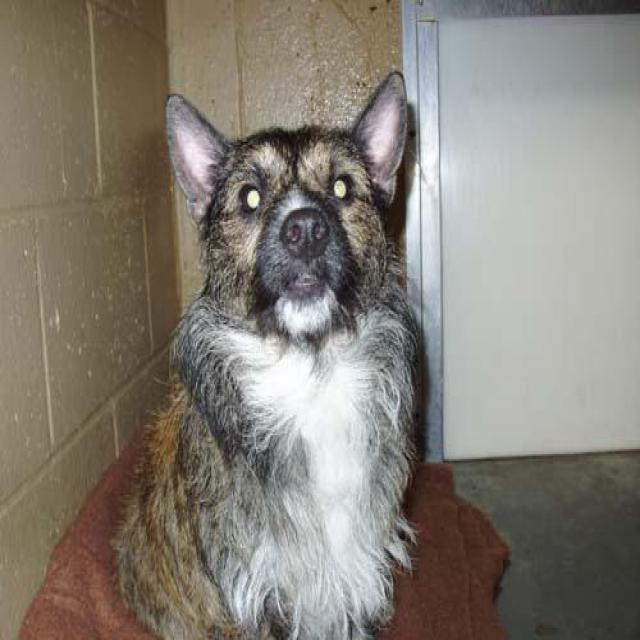Dogs: (108, 69, 422, 638)
